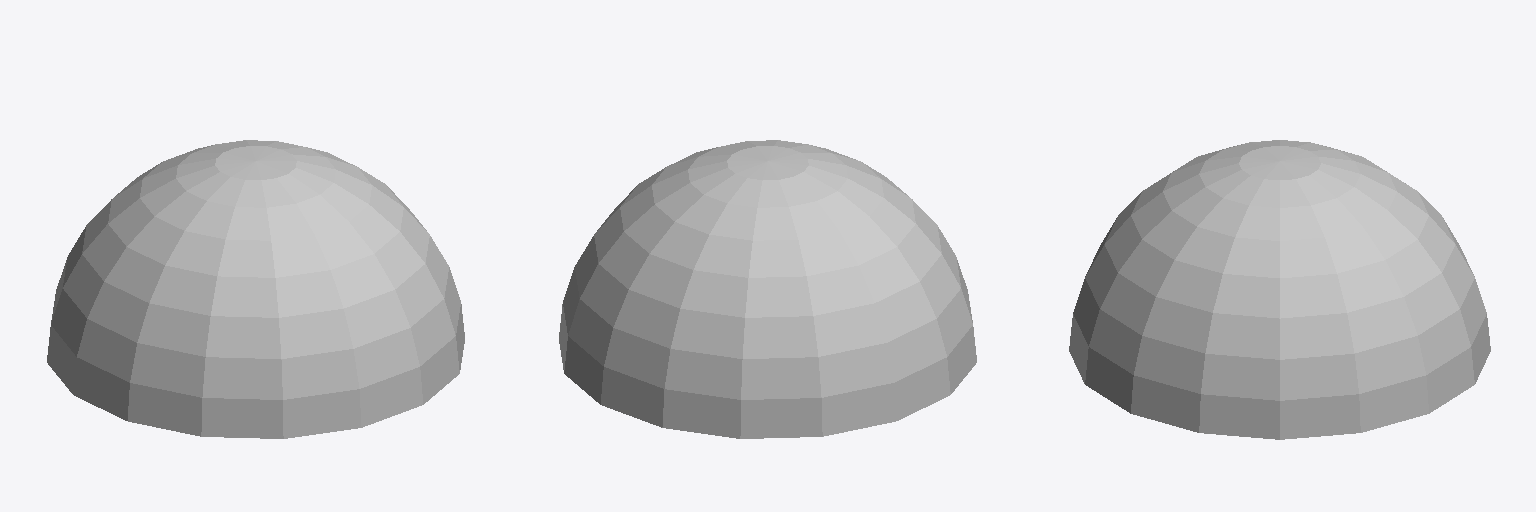
Rendered from vsky.obj.
3 views of the same model, side by side, from view 1: azimuth 30°, elevation 25°; view 2: azimuth 150°, elevation 25°; view 3: azimuth 270°, elevation 25° (orthographic).
Parts seen in each view (by area): view 1: Sphere; view 2: Sphere; view 3: Sphere.
Part boxes in pixels (bbox=[...]): Sphere: bbox=[47, 140, 464, 438]; Sphere: bbox=[559, 140, 976, 438]; Sphere: bbox=[1069, 140, 1490, 439].
Bounding box in the file's own units: 2000 × 990 × 2000.